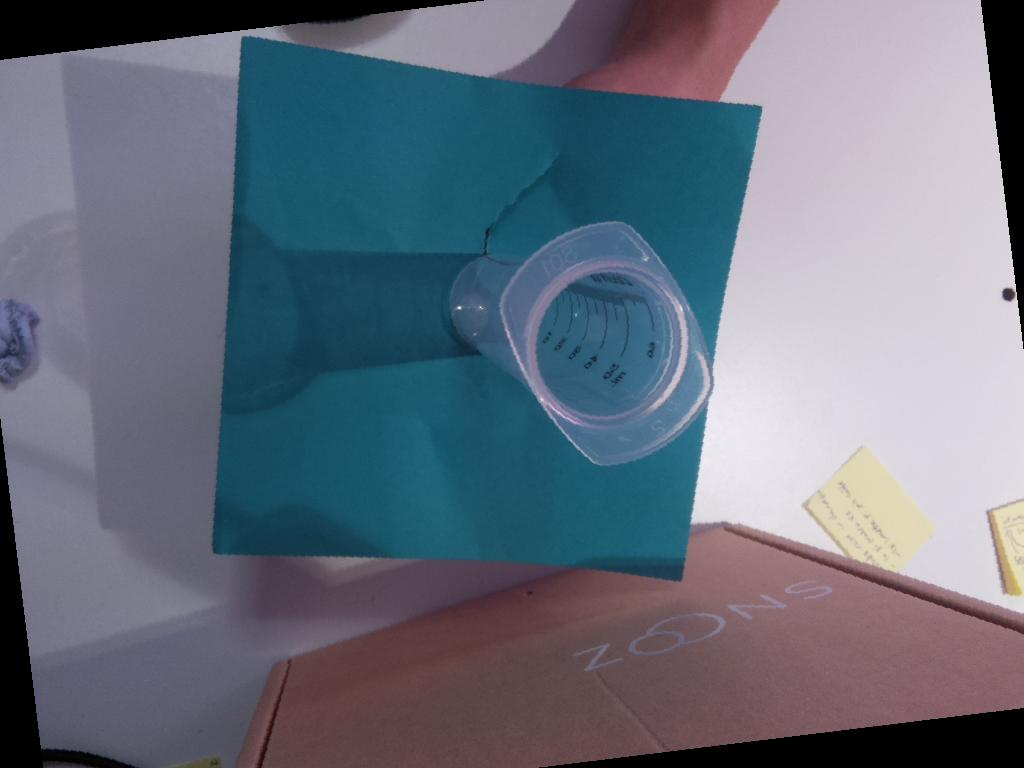clean: (498, 217, 715, 470)
